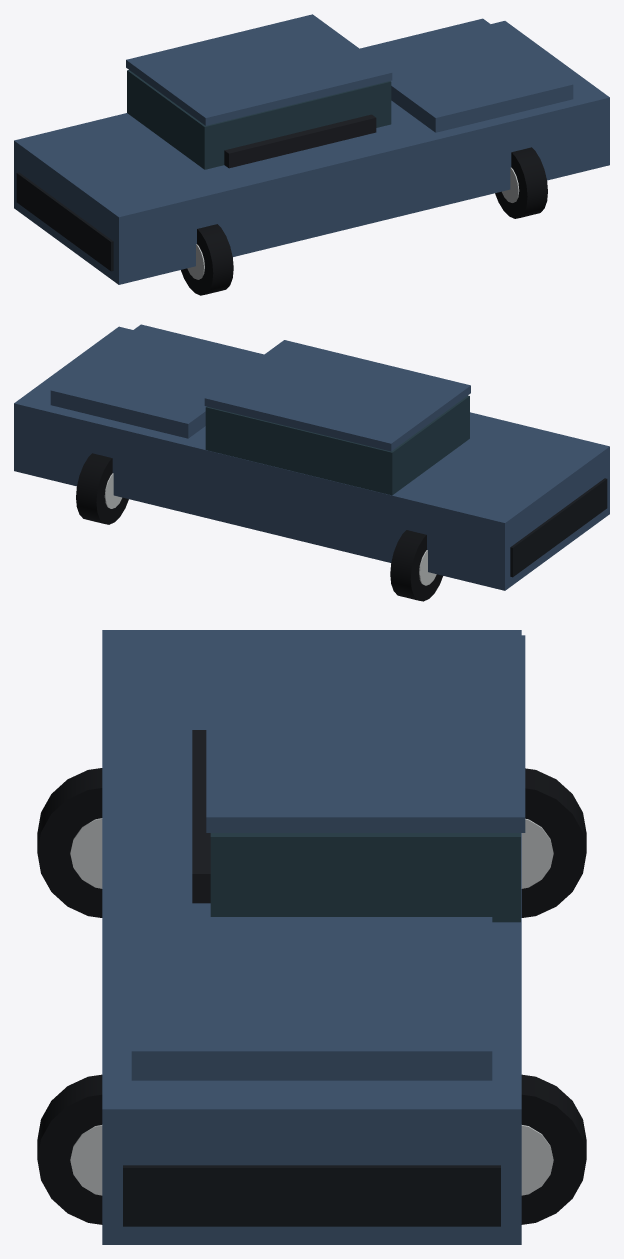
File: rr_wraith.glb
3 renders of one model, top to bottom at view 1: azimuth 30°, elevation 25°; view 2: azimuth 150°, elevation 25°; view 3: azimuth 270°, elevation 25°, orthographic. The views are drawn at different scales.
Visible parts, largest first — view 1: body, roof, hood, cabin, rear_bumper, interior, front_right_wheel, rear_right_wheel; view 2: body, roof, hood, cabin, rear_bumper, front_left_wheel, rear_left_wheel; view 3: body, roof, hood, cabin, front_bumper, front_left_wheel, front_right_wheel, rear_right_wheel, rear_left_wheel, interior.
Boxes of the visible parts, box(x1,y1,x2,y2) form: body: box(14, 21, 609, 284); roof: box(126, 14, 392, 125); hood: box(360, 18, 573, 132); cabin: box(127, 70, 391, 169); rear_bumper: box(16, 172, 113, 271); interior: box(224, 114, 376, 168); front_right_wheel: box(495, 147, 547, 218); rear_right_wheel: box(181, 224, 233, 295); body: box(14, 326, 609, 590); roof: box(204, 340, 470, 451); hood: box(50, 324, 263, 438); cabin: box(205, 395, 469, 495); rear_bumper: box(510, 478, 607, 577); front_left_wheel: box(76, 453, 128, 524); rear_left_wheel: box(390, 530, 442, 601); body: box(102, 630, 521, 1244); roof: box(206, 635, 525, 832); hood: box(131, 917, 492, 1080); cabin: box(210, 833, 520, 922); front_bumper: box(123, 1165, 500, 1226); front_left_wheel: box(521, 1074, 586, 1224); front_right_wheel: box(37, 1074, 102, 1224); rear_right_wheel: box(37, 768, 102, 917); rear_left_wheel: box(521, 768, 586, 917); interior: box(192, 730, 210, 903).
Size of the model in its own units: 5.32 by 1.53 by 2.55.
